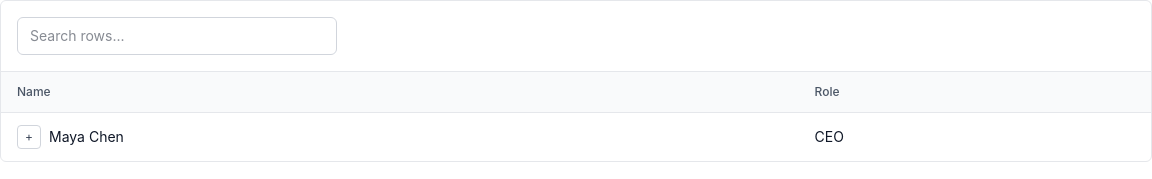
Test: TreeList › exposes sortable header aria-sort state
Click the button with aria-label "Sort by Name" at (34, 92), box [17,84,51,100]
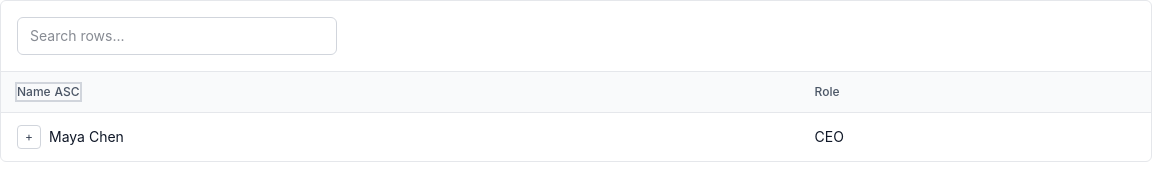
Result: the button with aria-label "Sort by Name, asc" is shown at [17,84,80,100]
